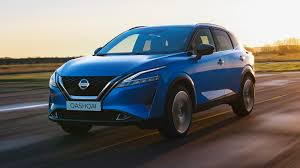Nissan: (50, 27, 241, 124)
